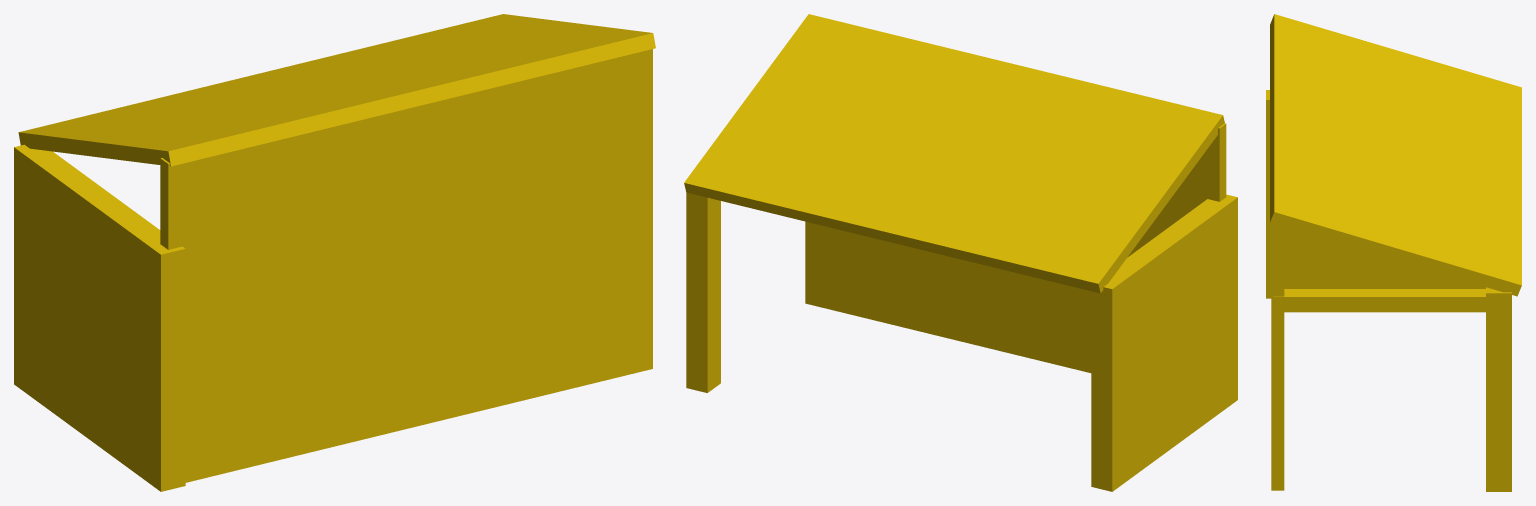
File: Hut_03_W_Collider.fbx
3 views of the same model, side by side, from view 1: azimuth 30°, elevation 25°; view 2: azimuth 150°, elevation 25°; view 3: azimuth 270°, elevation 25° (orthographic). The views are drawn at different scales.
Parts seen in each view (by area): view 1: Hut_03_W_Collider; view 2: Hut_03_W_Collider; view 3: Hut_03_W_Collider.
Boxes of the visible parts, bbox=[...] form: Hut_03_W_Collider: bbox=[14, 14, 655, 491]; Hut_03_W_Collider: bbox=[684, 14, 1237, 491]; Hut_03_W_Collider: bbox=[1266, 14, 1521, 491].
Size of the model in its own units: 641 by 410 by 340.
